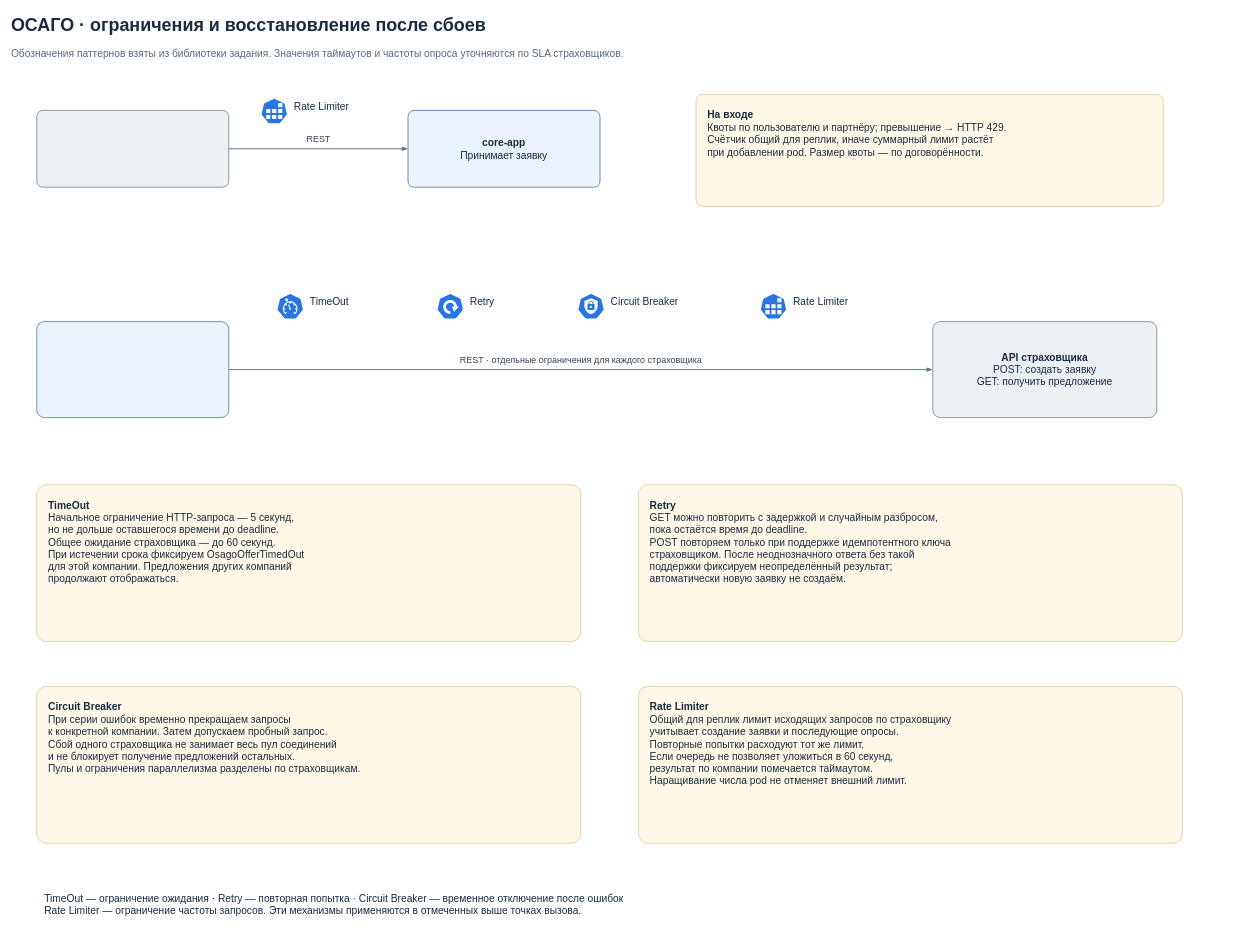
Image size: 1238x937. Some labels were removed from this diagram. Each missing label, with the box of its shape:
osago-aggregator Создаёт внешнюю заявку и опрашивает результат: (36, 321, 229, 418)
Web / партнёры Создание заявки: (36, 110, 229, 187)
